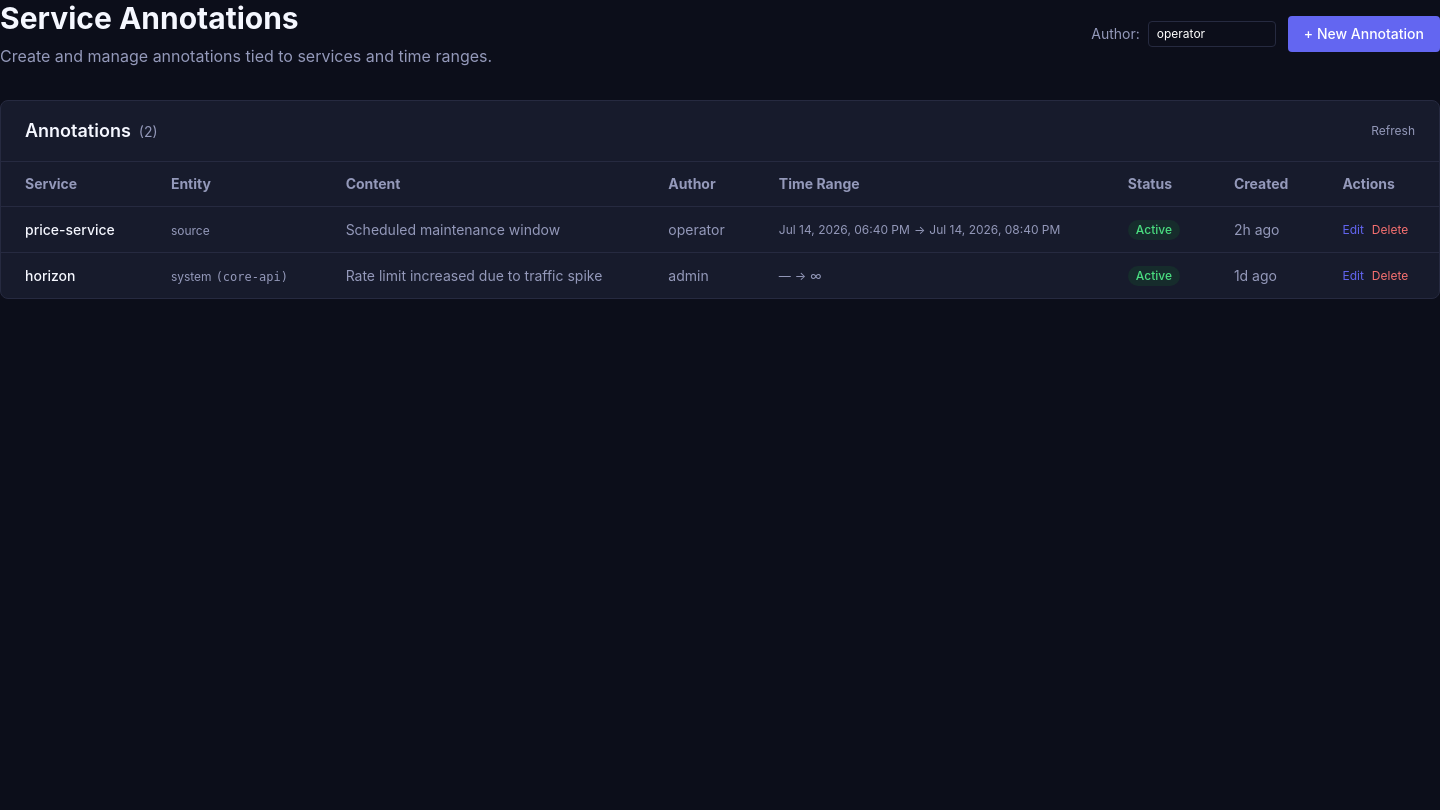
it: ServiceAnnotations › allows creating a new annotation and shows it in the table
The image size is (1440, 810).
Click the button "+ New Annotation" at x=1364, y=34, box [1288,16,1439,52]
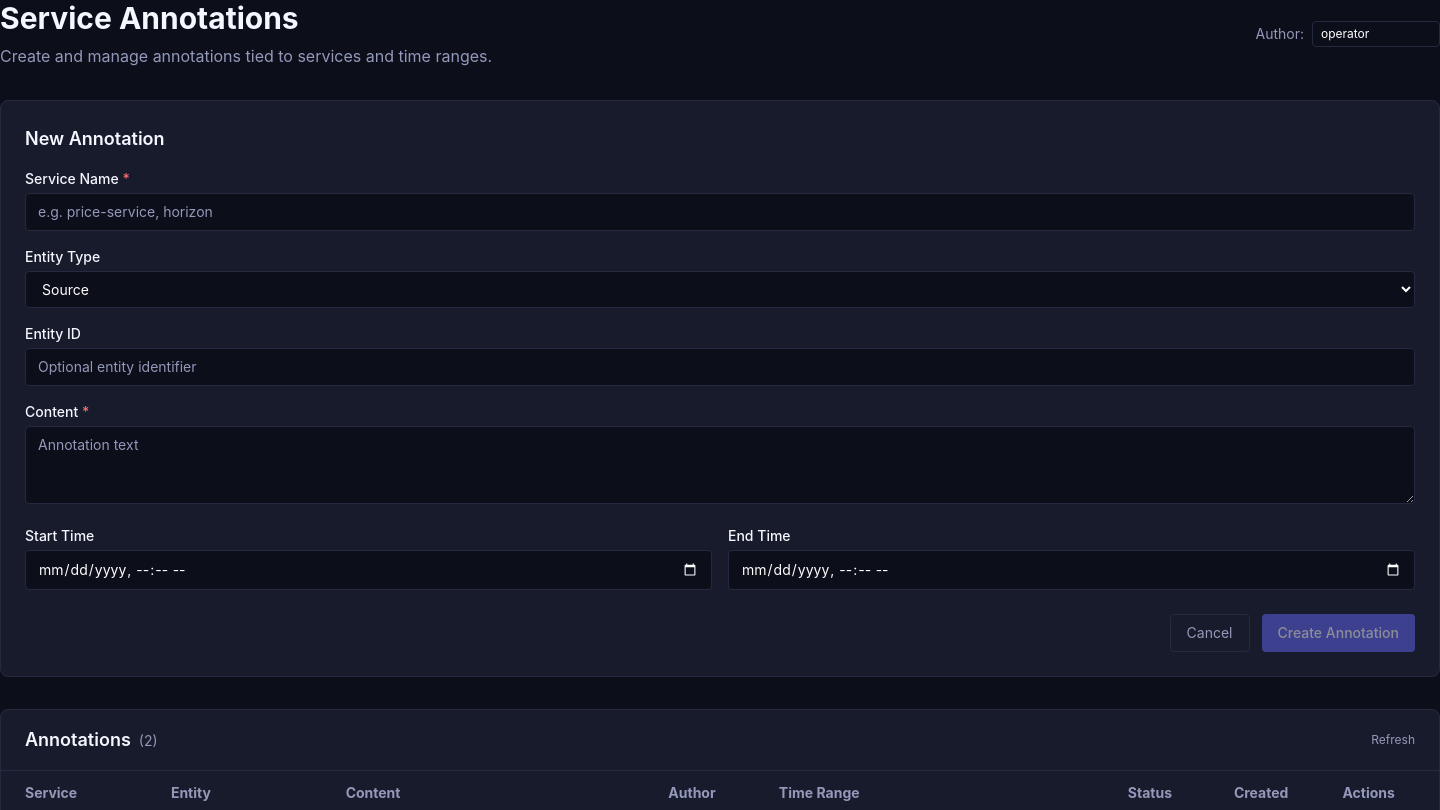
Type "test-service" into the field labelled "Service Name *" at x=720, y=212, box [25,193,1415,231]
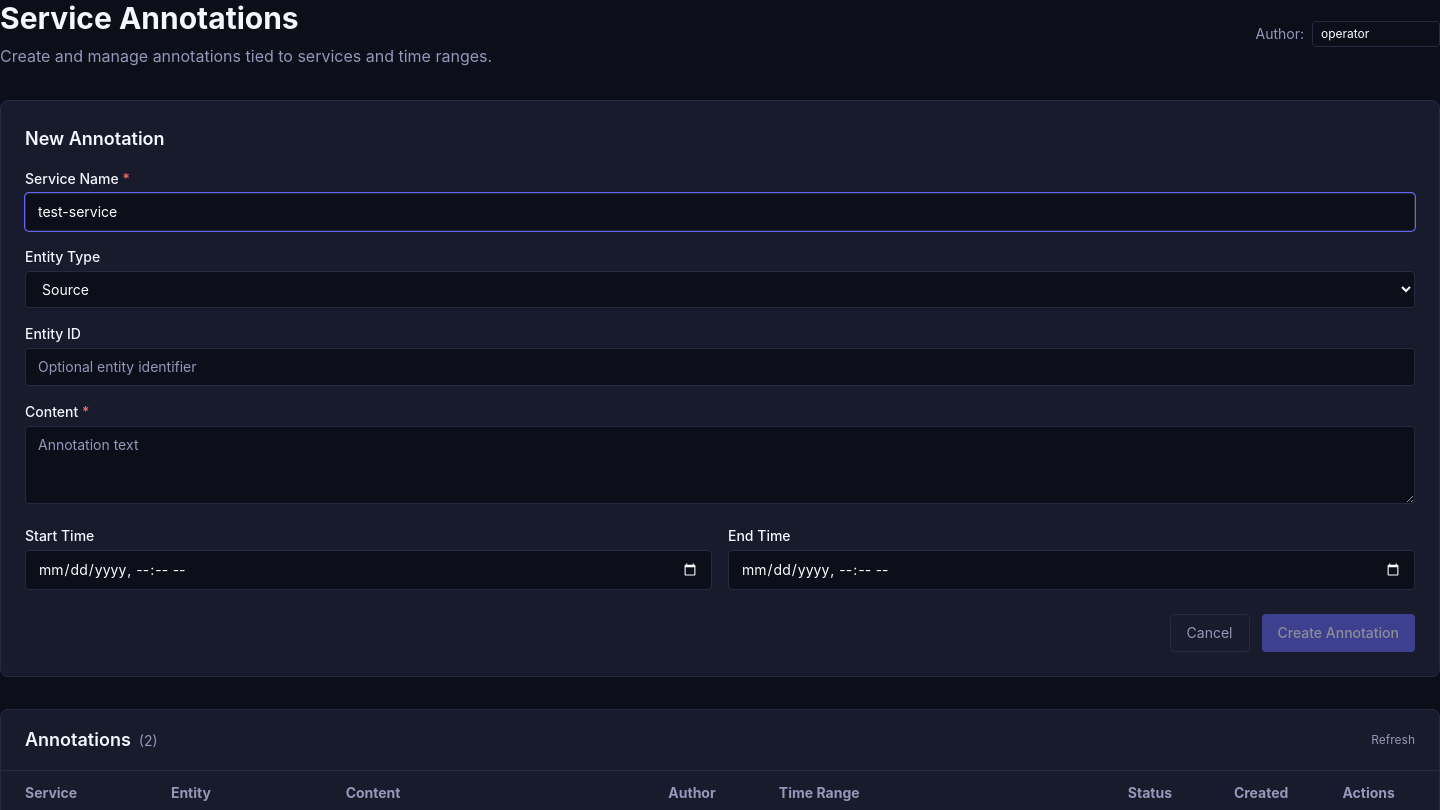
Type "Test annotation content" into the text box labelled "Content *" at x=720, y=465, box [25,426,1415,504]
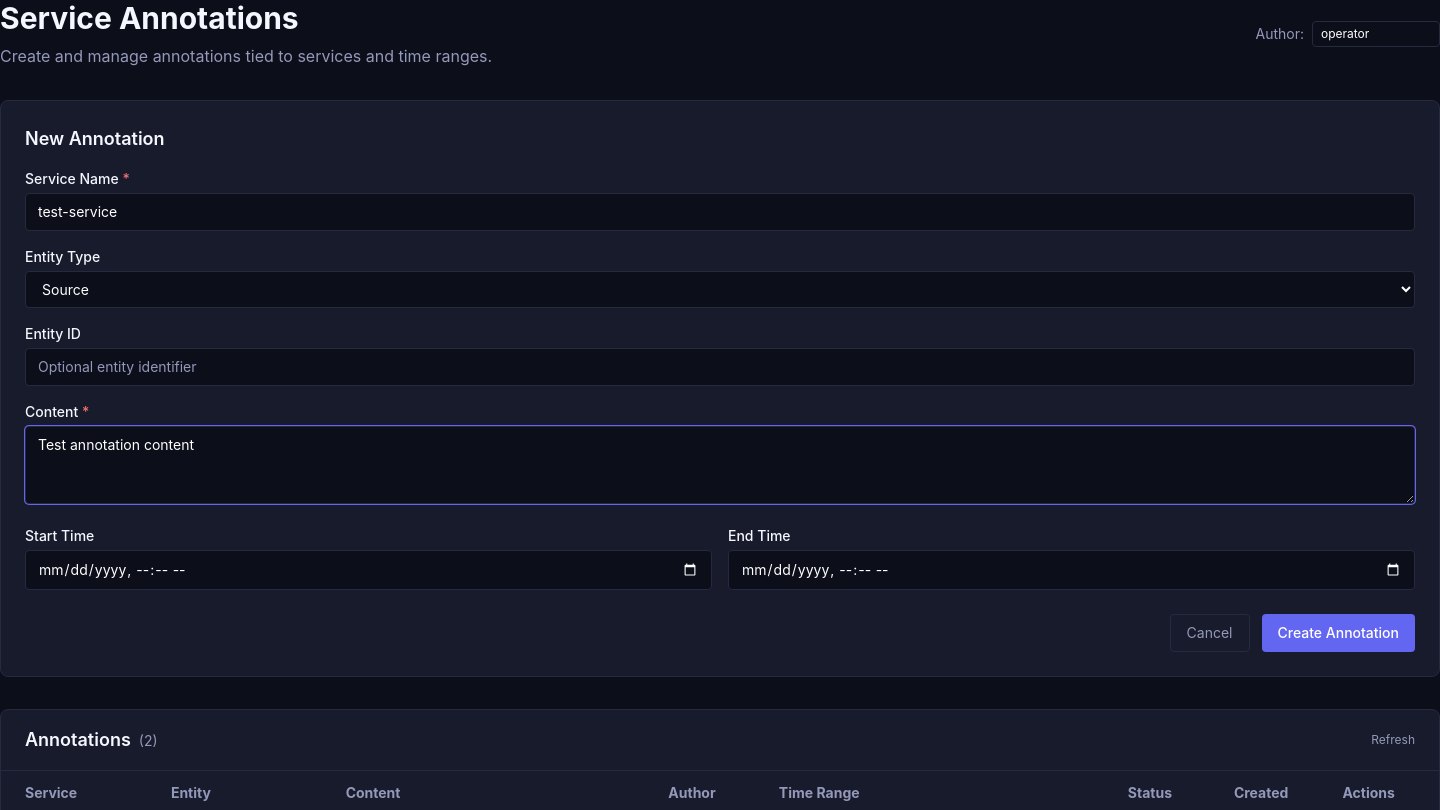
Click the button "Create Annotation" at x=1338, y=633, box [1262,614,1415,652]
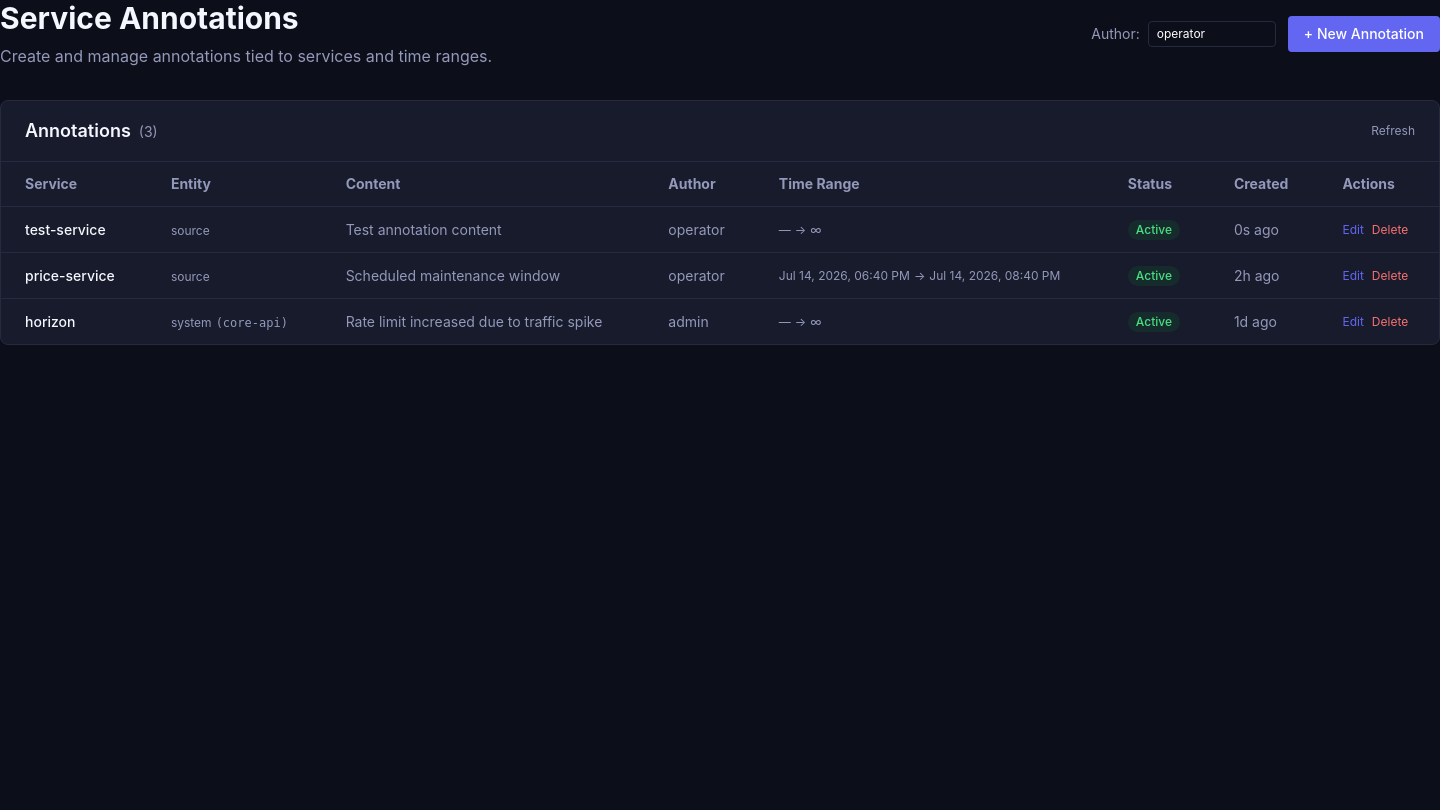
expect the text "test-service" is shown: met, box [1,207,147,252]
expect the text "Test annotation content" is shown: met, box [322,207,644,252]
